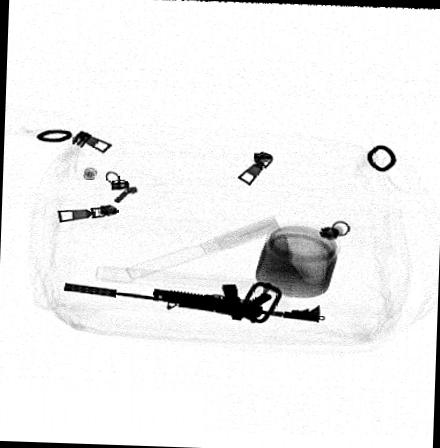Gun: (62, 282, 320, 324)
